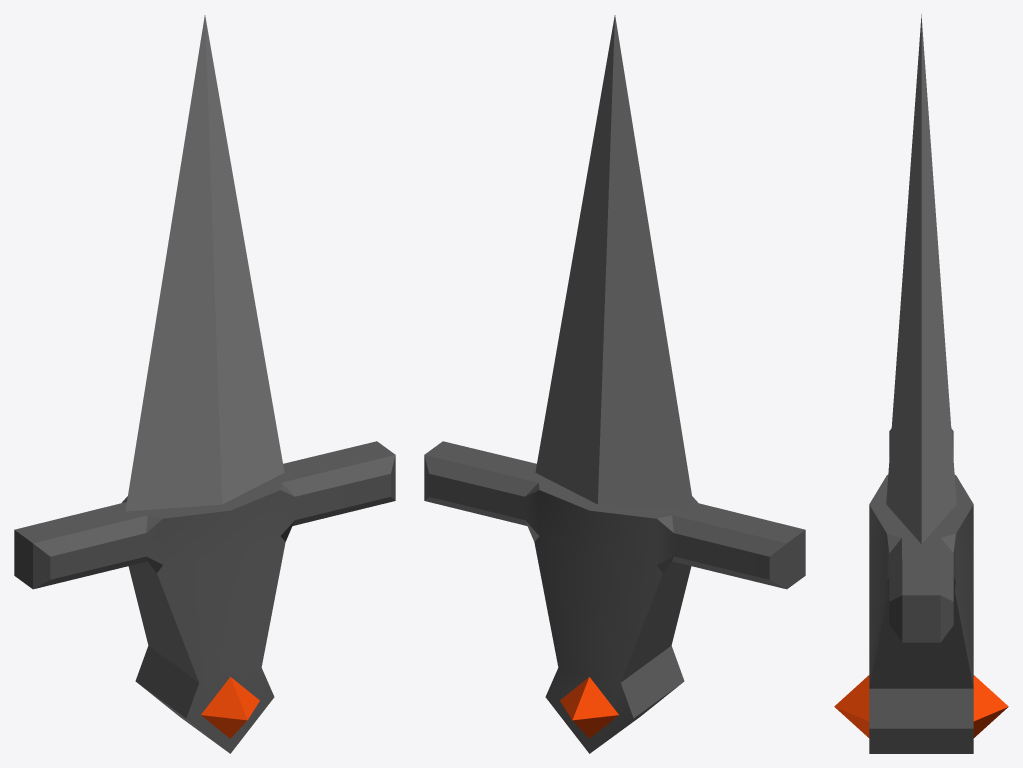
File: Dagger.fbx
3 views of the same model, side by side, from view 1: azimuth 30°, elevation 25°; view 2: azimuth 150°, elevation 25°; view 3: azimuth 270°, elevation 25° (orthographic). The views are drawn at different scales.
Visible parts, largest first — view 1: pCylinder1, pPyramid1, pPyramid3; view 2: pCylinder1, pPyramid1, pPyramid2; view 3: pCylinder1, pPyramid1, pPyramid2, pPyramid3.
Part boxes in pixels (left/top/right/bottom): pCylinder1: left=14, top=441, right=395, bottom=753; pPyramid1: left=125, top=15, right=284, bottom=511; pPyramid3: left=201, top=677, right=259, bottom=738; pCylinder1: left=424, top=441, right=805, bottom=753; pPyramid1: left=535, top=15, right=694, bottom=511; pPyramid2: left=560, top=677, right=618, bottom=738; pCylinder1: left=869, top=428, right=973, bottom=753; pPyramid1: left=886, top=14, right=956, bottom=543; pPyramid2: left=973, top=675, right=1008, bottom=737; pPyramid3: left=834, top=675, right=869, bottom=737.
Bounding box in the file's own units: 822 × 1563 × 335.
